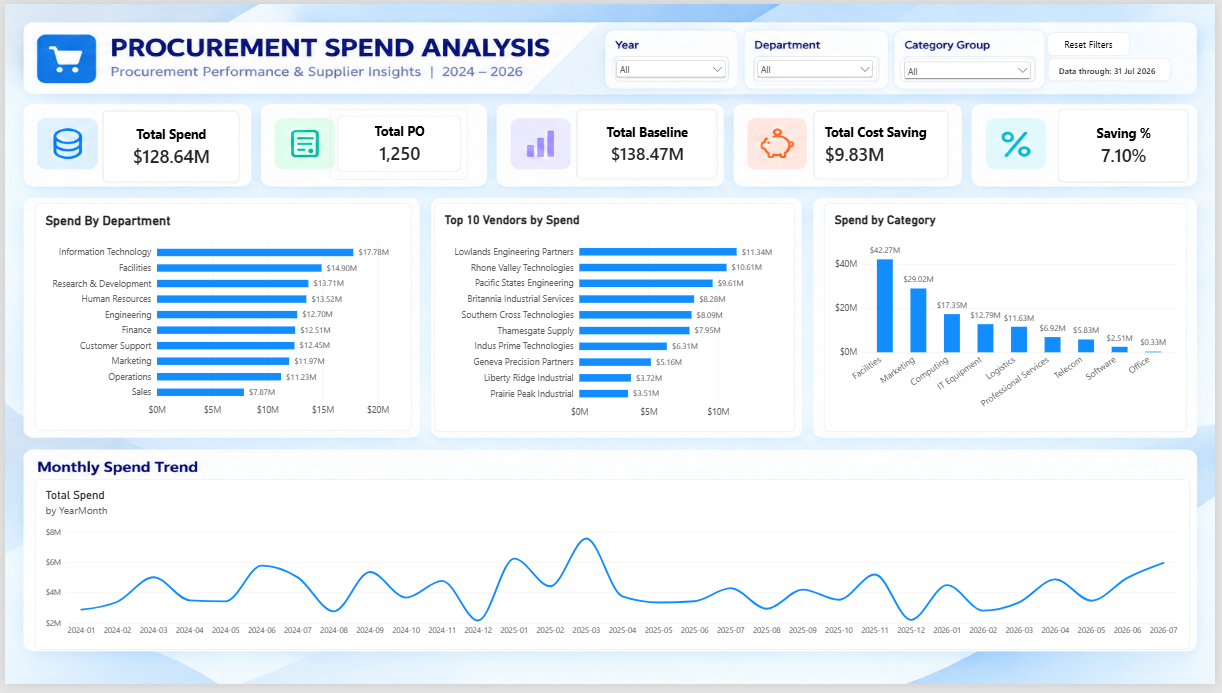

This screenshot's page, from the dashboard's own definition file:
{"tool":"powerbi","page":{"name":"Executive Overview","canvas":[1920,1080],"ordinal":0},"visuals":[{"type":"cardVisual","title":"TOTAL","fields":{"Data":["Fact_PO_Detail.Total Spend"]},"box":[154.4,170.1,217.5,115],"z":0},{"type":"cardVisual","fields":{"Data":["Fact_PO_Detail.Total PO"]},"box":[516.9,167.8,217.1,111.9],"z":1000},{"type":"cardVisual","fields":{"Data":["Fact_PO_Detail.Total Cost Saving"]},"box":[1284.5,170.1,214.8,109.7],"z":2000},{"type":"cardVisual","fields":{"Data":["Fact_PO_Detail.Total Baseline"]},"box":[906.3,167.8,223.8,111.9],"z":3000},{"type":"cardVisual","fields":{"Data":["Fact_PO_Detail.Saving %"]},"box":[1671.6,165.6,207.5,117.5],"z":4000},{"type":"clusteredBarChart","title":"Spend By Department","fields":{"Category":["Dim_Department.DepartmentName"],"Y":["Fact_PO_Detail.Total Spend"]},"box":[47,317.8,597.5,360.3],"z":5000},{"type":"clusteredBarChart","title":"Top 10 Vendors by Spend","fields":{"Category":["Dim_Vendor.VendorName"],"Y":["Fact_PO_Detail.Total Spend"]},"box":[680,317.3,572.6,362.7],"z":6000},{"type":"clusteredColumnChart","title":"Spend by Category","fields":{"Category":["Dim_Product.CategoryGroup"],"Y":["Fact_PO_Detail.Total Spend"]},"box":[1300.1,317.8,575.1,362.5],"z":7000},{"type":"lineChart","fields":{"Category":["DimDate.YearMonth"],"Y":["Fact_PO_Detail.Total Spend"]},"box":[47.5,755,1832.5,270],"z":8000},{"type":"slicer","fields":{"Values":["DimDate.Year"]},"box":[965,82.5,185,35],"z":9000},{"type":"slicer","fields":{"Values":["Dim_Department.DepartmentName"]},"box":[1187.5,82.5,195,45],"z":10000},{"type":"slicer","fields":{"Values":["Dim_Product.CategoryGroup"]},"box":[1422,85.9,212.3,38.2],"z":11000},{"type":"actionButton","box":[1655.7,44.3,130.6,37.3],"z":11001},{"type":"cardVisual","fields":{"Data":["Fact_PO_Detail.Data Through"]},"box":[1655.9,85,196.9,38],"z":11002}]}

Visuals, with their boxes in screenshot pixels (x1, y1, x2, y2), scaled from the page's 1920x1080 canvas onto the 1222x693 screenshot:
"TOTAL" cardVisual: [98, 109, 237, 183]
cardVisual - Fact_PO_Detail.Total PO: [329, 108, 467, 179]
cardVisual - Fact_PO_Detail.Total Cost Saving: [818, 109, 954, 180]
cardVisual - Fact_PO_Detail.Total Baseline: [577, 108, 719, 179]
cardVisual - Fact_PO_Detail.Saving %: [1064, 106, 1196, 182]
"Spend By Department" clusteredBarChart: [30, 204, 410, 435]
"Top 10 Vendors by Spend" clusteredBarChart: [433, 204, 797, 436]
"Spend by Category" clusteredColumnChart: [827, 204, 1193, 437]
lineChart - DimDate.YearMonth x Fact_PO_Detail.Total Spend: [30, 484, 1197, 658]
slicer - DimDate.Year: [614, 53, 732, 75]
slicer - Dim_Department.DepartmentName: [756, 53, 880, 82]
slicer - Dim_Product.CategoryGroup: [905, 55, 1040, 80]
actionButton: [1054, 28, 1137, 52]
cardVisual - Fact_PO_Detail.Data Through: [1054, 55, 1179, 79]
